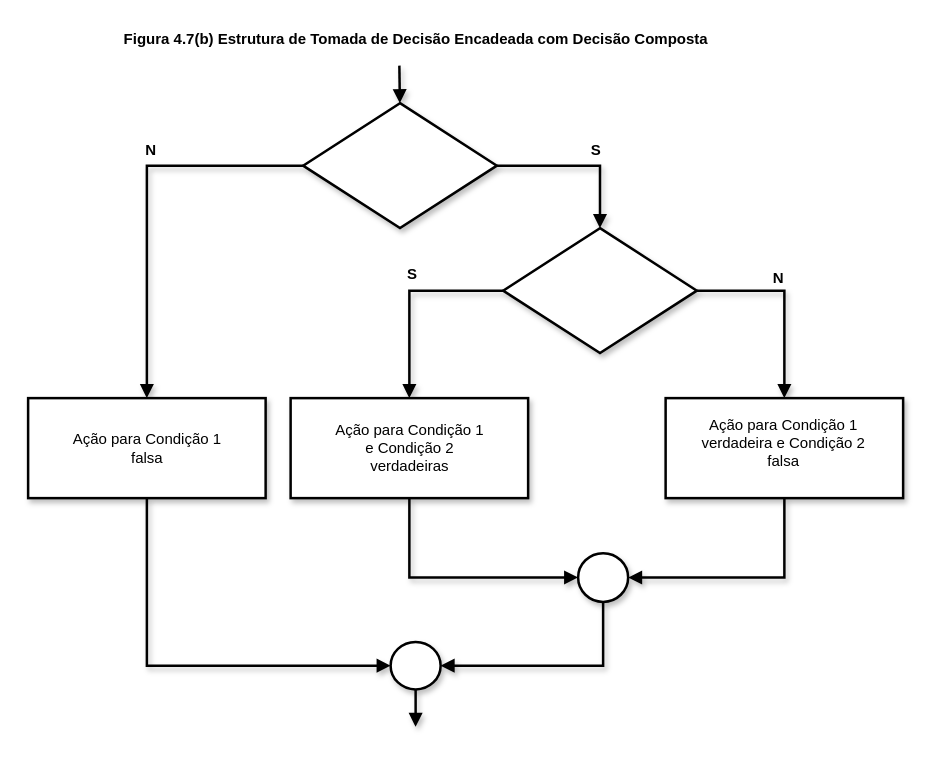
This 933x768 diagram has some shape labels left out. The centre of each missing label's shape, as x and y in pixels:
"Condição 1" belongs at pixel 400 167.
"Condição 2" belongs at pixel 600 291.
